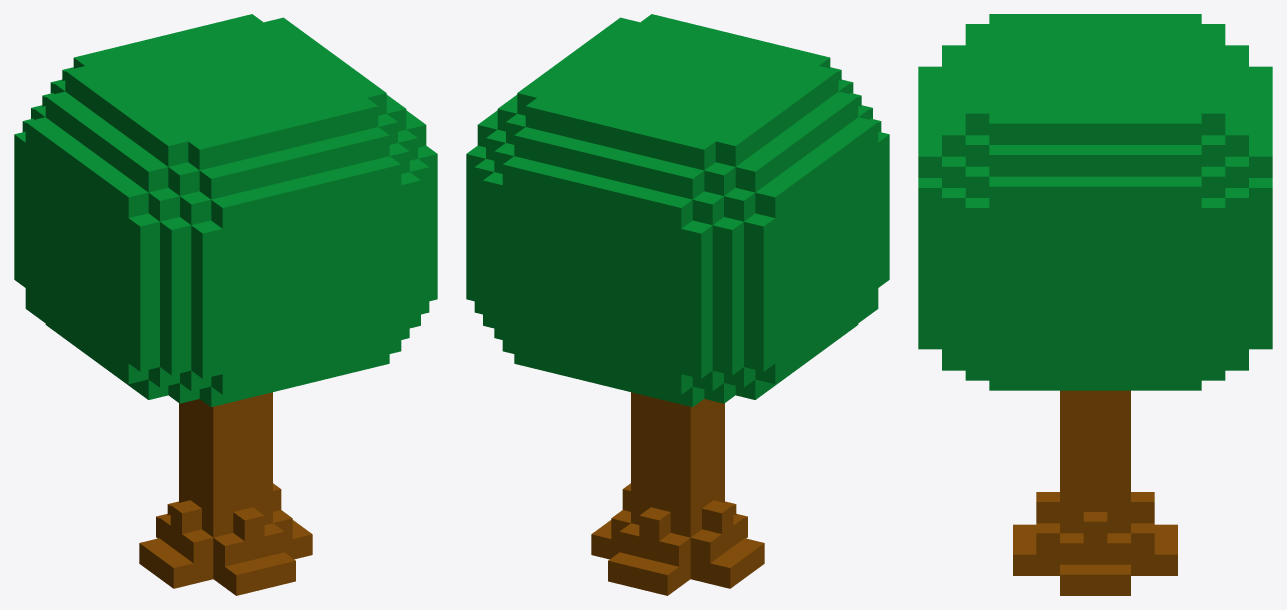
The model's file is tree3.dae.
3 views of the same model, side by side, from view 1: azimuth 30°, elevation 25°; view 2: azimuth 150°, elevation 25°; view 3: azimuth 270°, elevation 25° (orthographic). The views are drawn at different scales.
Parts seen in each view (by area): view 1: tree3; view 2: tree3; view 3: tree3.
Part boxes in pixels (box(x1,y1,x2,y2)): tree3: box(14, 14, 437, 595); tree3: box(466, 14, 889, 595); tree3: box(918, 14, 1272, 595).
Size of the model in its own units: 1.5 by 1.5 by 2.3.
1 material, 1 textured.
